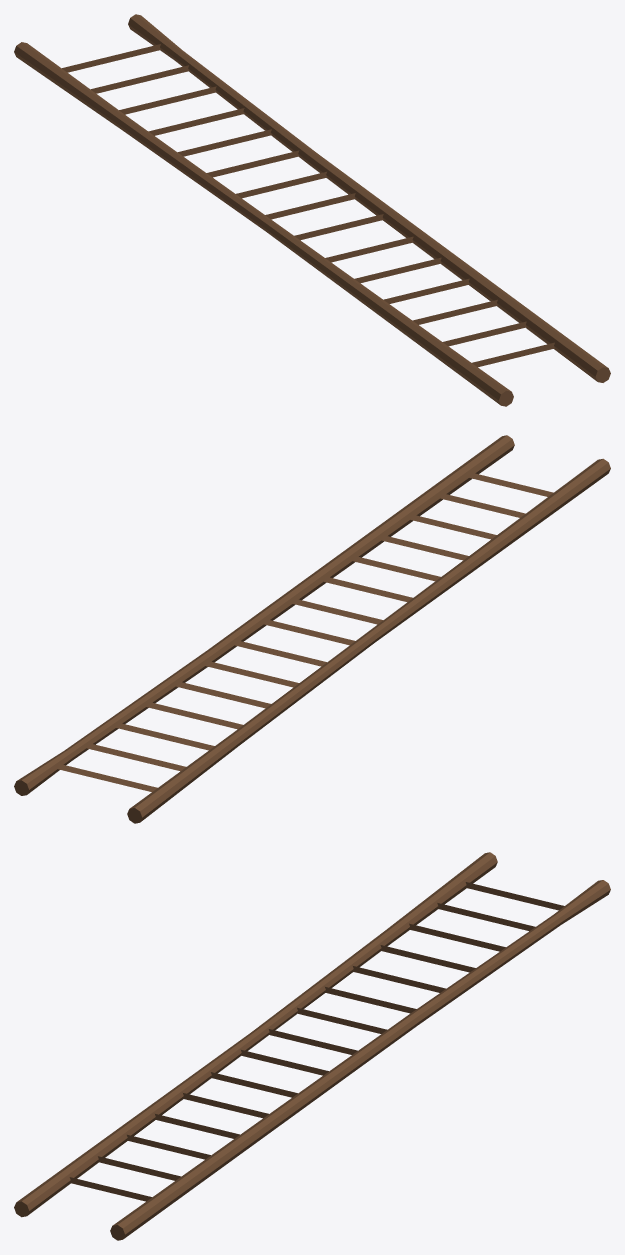
The model's file is Ladder_02_TowerLow.fbx.
The picture shows the model from 3 angles, top to bottom: view 1: azimuth 30°, elevation 25°; view 2: azimuth 150°, elevation 25°; view 3: azimuth 330°, elevation 25°; orthographic projection.
Parts seen in each view (by area): view 1: Ladder_2 tour small; view 2: Ladder_2 tour small; view 3: Ladder_2 tour small.
Boxes of the visible parts, <box> form: Ladder_2 tour small: <box>14,14,610,406</box>; Ladder_2 tour small: <box>14,435,610,823</box>; Ladder_2 tour small: <box>14,852,610,1240</box>.
Bounding box in the file's own units: 51.97 × 6.16 × 333.
